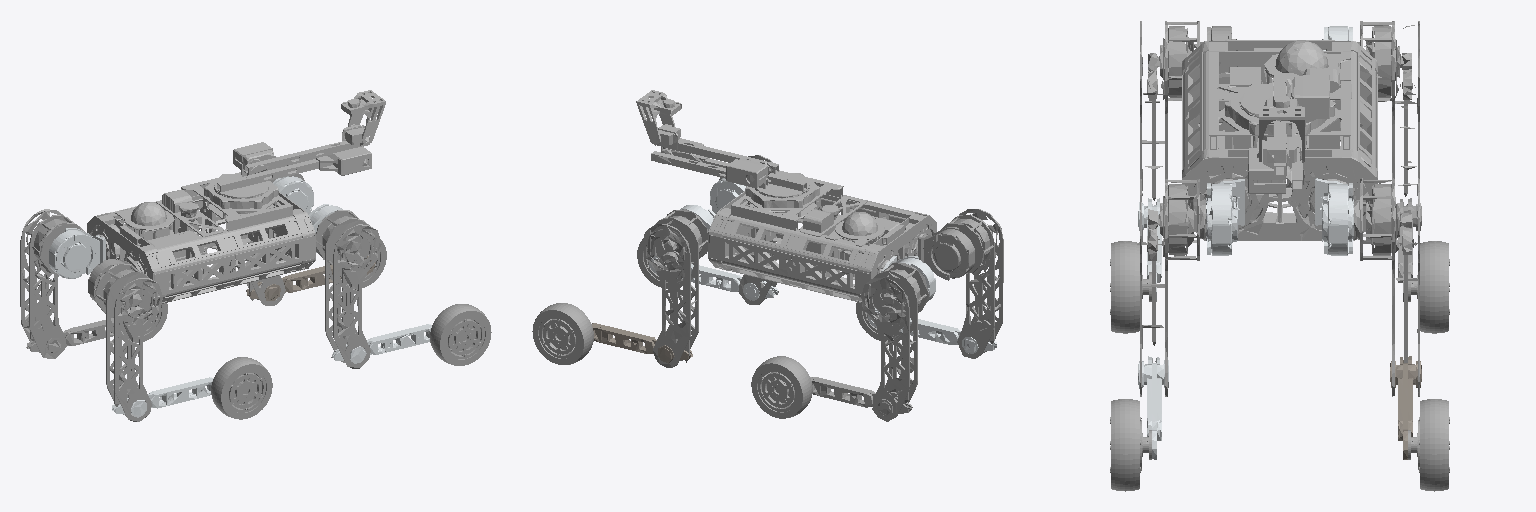
robot.urdf — dog:
<?xml version="1.0" encoding="utf-8"?>
<!-- This URDF was automatically created by SolidWorks to URDF Exporter! Originally created by Stephen Brawner (brawner@gmail.com) 
     Commit Version: 1.6.0-4-g7f85cfe  Build Version: 1.6.7995.38578
     For more information, please see http://wiki.ros.org/sw_urdf_exporter -->
<robot
  name="dog">
  <link
    name="base_link">
    <inertial>
      <origin
        xyz="0.0348197823453159 0.00438719226827042 0.0944538564687364"
        rpy="0 0 -1.5707963267949" />
      <mass
        value="7.237743799242" />
      <inertia
        ixx="0.0130422796441506"
        ixy="6.1466818954061E-06"
        ixz="-5.02997398507184E-07"
        iyy="0.00959717989648639"
        iyz="7.44303450590996E-06"
        izz="0.0141780154474086" />
    </inertial>
    <visual>
      <origin
        xyz="0 0 0"
        rpy="0 0 -1.5707963267949" />
      <geometry>
        <mesh
          filename="package://dog_arm/meshes/base_link.STL" />
      </geometry>
      <material
        name="">
        <color
          rgba="0.752941176470588 0.752941176470588 0.752941176470588 1" />
      </material>
    </visual>
    <collision>
      <origin
        xyz="0 0 0"
        rpy="0 0 -1.5707963267949" />
      <geometry>
        <mesh
          filename="package://dog_arm/meshes/base_link.STL" />
      </geometry>
    </collision>
  </link>
  <link
    name="FL_hip">
    <inertial>
      <origin
        xyz="0.00926961232093054 -0.000389114630895825 0.0462294301476742"
        rpy="0 0 0" />
      <mass
        value="0.742829095909988" />
      <inertia
        ixx="0.000773878879093356"
        ixy="-8.17686305960049E-08"
        ixz="-9.36979153596605E-08"
        iyy="0.000386655335773583"
        iyz="-7.10269912306075E-06"
        izz="0.000448506001796699" />
    </inertial>
    <visual>
      <origin
        xyz="0 0 0"
        rpy="0 0 0" />
      <geometry>
        <mesh
          filename="package://dog_arm/meshes/left_front1.STL" />
      </geometry>
      <material
        name="">
        <color
          rgba="0.898039215686275 0.917647058823529 0.929411764705882 1" />
      </material>
    </visual>
    <collision>
      <origin
        xyz="0 0 0"
        rpy="0 0 0" />
      <geometry>
        <mesh
          filename="package://dog_arm/meshes/left_front1.STL" />
      </geometry>
    </collision>
  </link>
  <joint
    name="FL_hip_joint"
    type="revolute">
    <origin
      xyz="0.198599999999996 0.0699998874435837 0.0620002717327733"
      rpy="1.5707963267949 0 1.5707963267949" />
    <parent
      link="base_link" />
    <child
      link="FL_hip" />
    <axis
      xyz="0 0 1" />
    <limit
      lower="-3.14"
      upper="3.14"
      effort="23"
      velocity="30" />
  </joint>
  <link
    name="FL_thigh">
    <inertial>
      <origin
        xyz="0.0271088488648907 0.00453042316089712 0.0409809017320494"
        rpy="0 0 0" />
      <mass
        value="1.18835532842085" />
      <inertia
        ixx="0.000582380613602489"
        ixy="7.19192245269152E-05"
        ixz="3.62444695223977E-07"
        iyy="0.00200833125008336"
        iyz="3.63860855013318E-07"
        izz="0.0025152689691943" />
    </inertial>
    <visual>
      <origin
        xyz="0 0 0"
        rpy="0 0 0" />
      <geometry>
        <mesh
          filename="package://dog_arm/meshes/left_front2.STL" />
      </geometry>
      <material
        name="">
        <color
          rgba="0.698039215686274 0.698039215686274 0.698039215686274 1" />
      </material>
    </visual>
    <collision>
      <origin
        xyz="0 0 0"
        rpy="0 0 0" />
      <geometry>
        <mesh
          filename="package://dog_arm/meshes/left_front2.STL" />
      </geometry>
    </collision>
  </link>
  <joint
    name="FL_thigh_joint"
    type="revolute">
    <origin
      xyz="0.0358000000000001 0 0.0530001125564164"
      rpy="-1.57079632679489 0 -1.5707963267949" />
    <parent
      link="FL_hip" />
    <child
      link="FL_thigh" />
    <axis
      xyz="0 0 1" />
    <limit
      lower="-3.14"
      upper="3.14"
      effort="23"
      velocity="30" />
  </joint>
  <link
    name="FL_calf">
    <inertial>
      <origin
        xyz="0.0501224638734481 1.25177646026486E-14 -0.0161327781293806"
        rpy="0 0 0" />
      <mass
        value="0.239198906199937" />
      <inertia
        ixx="2.34277225944229E-05"
        ixy="5.0821976835258E-21"
        ixz="8.17602954337377E-09"
        iyy="0.000501272731167538"
        iyz="4.00800769885972E-20"
        izz="0.000522923662478964" />
    </inertial>
    <visual>
      <origin
        xyz="0 0 0"
        rpy="0 0 0" />
      <geometry>
        <mesh
          filename="package://dog_arm/meshes/left_front3.STL" />
      </geometry>
      <material
        name="">
        <color
          rgba="0.647058823529412 0.619607843137255 0.588235294117647 1" />
      </material>
    </visual>
    <collision>
      <origin
        xyz="0 0 0"
        rpy="0 0 0" />
      <geometry>
        <mesh
          filename="package://dog_arm/meshes/left_front3.STL" />
      </geometry>
    </collision>
  </link>
  <joint
    name="FL_calf_joint"
    type="revolute">
    <origin
      xyz="0.229999999999994 0 0.0797499999999994"
      rpy="0 0 -1.5707963267949" />
    <parent
      link="FL_thigh" />
    <child
      link="FL_calf" />
    <axis
      xyz="0 0 1" />
    <limit
      lower="-3.14"
      upper="3.14"
      effort="23"
      velocity="30" />
  </joint>
  <link
    name="FL_foot">
    <inertial>
      <origin
        xyz="1.91606151095369E-06 1.10302561355524E-06 0.0324457169265932"
        rpy="0 0 0" />
      <mass
        value="0.759852059316665" />
      <inertia
        ixx="0.000798795435435594"
        ixy="3.93130204632457E-10"
        ixz="-3.48956735598218E-08"
        iyy="0.000798795890854484"
        iyz="-2.01759884168706E-08"
        izz="0.00145510261223115" />
    </inertial>
    <visual>
      <origin
        xyz="0 0 0"
        rpy="0 0 0" />
      <geometry>
        <mesh
          filename="package://dog_arm/meshes/left_front4.STL" />
      </geometry>
      <material
        name="">
        <color
          rgba="0.698039215686274 0.698039215686274 0.698039215686274 1" />
      </material>
    </visual>
    <collision>
      <origin
        xyz="0 0 0"
        rpy="0 0 0" />
      <geometry>
        <mesh
          filename="package://dog_arm/meshes/left_front4.STL" />
      </geometry>
    </collision>
  </link>
  <joint
    name="FL_foot_joint"
    type="continuous">
    <origin
      xyz="0.225 0 -0.0112499999999999"
      rpy="0 0 0" />
    <parent
      link="FL_calf" />
    <child
      link="FL_foot" />
    <axis
      xyz="0 0 1" />
  </joint>
  <link
    name="FR_hip">
    <inertial>
      <origin
        xyz="0.00926961232092999 -0.000281092632916098 0.0463950814614477"
        rpy="0 0 0" />
      <mass
        value="0.742829095910026" />
      <inertia
        ixx="0.000773878879093408"
        ixy="8.19615561677747E-08"
        ixz="1.04684273268948E-07"
        iyy="0.000386655350800085"
        iyz="-7.10277806804239E-06"
        izz="0.000448505986770251" />
    </inertial>
    <visual>
      <origin
        xyz="0 0 0"
        rpy="0 0 0" />
      <geometry>
        <mesh
          filename="package://dog_arm/meshes/right_front1.STL" />
      </geometry>
      <material
        name="">
        <color
          rgba="0.898039215686275 0.917647058823529 0.929411764705882 1" />
      </material>
    </visual>
    <collision>
      <origin
        xyz="0 0 0"
        rpy="0 0 0" />
      <geometry>
        <mesh
          filename="package://dog_arm/meshes/right_front1.STL" />
      </geometry>
    </collision>
  </link>
  <joint
    name="FR_hip_joint"
    type="revolute">
    <origin
      xyz="0.198599999999997 -0.0700000000000028 0.0619999999999996"
      rpy="-1.5707963267949 0 -1.5707963267949" />
    <parent
      link="base_link" />
    <child
      link="FR_hip" />
    <axis
      xyz="0 0 1" />
    <limit
      lower="-3.14"
      upper="3.14"
      effort="23"
      velocity="30" />
  </joint>
  <link
    name="FR_thigh">
    <inertial>
      <origin
        xyz="0.0251291312618478 -0.00355121391956043 0.0410938511147438"
        rpy="0 0 0" />
      <mass
        value="1.19692185407114" />
      <inertia
        ixx="0.00057946306520111"
        ixy="-6.7683132060606E-05"
        ixz="-4.69136972951624E-08"
        iyy="0.0020130685753681"
        iyz="-9.51156961903831E-08"
        izz="0.00251528451753003" />
    </inertial>
    <visual>
      <origin
        xyz="0 0 0"
        rpy="0 0 0" />
      <geometry>
        <mesh
          filename="package://dog_arm/meshes/right_front2.STL" />
      </geometry>
      <material
        name="">
        <color
          rgba="0.698039215686274 0.698039215686274 0.698039215686274 1" />
      </material>
    </visual>
    <collision>
      <origin
        xyz="0 0 0"
        rpy="0 0 0" />
      <geometry>
        <mesh
          filename="package://dog_arm/meshes/right_front2.STL" />
      </geometry>
    </collision>
  </link>
  <joint
    name="FR_thigh_joint"
    type="revolute">
    <origin
      xyz="0.0357999999999971 0 0.0530000000000029"
      rpy="1.57079632679493 0 1.5707963267949" />
    <parent
      link="FR_hip" />
    <child
      link="FR_thigh" />
    <axis
      xyz="0 0 1" />
    <limit
      lower="-3.14"
      upper="3.14"
      effort="23"
      velocity="30" />
  </joint>
  <link
    name="FR_calf">
    <inertial>
      <origin
        xyz="0.0506122904556514 -3.35692218467187E-09 -0.0159312946682333"
        rpy="0 0 0" />
      <mass
        value="0.236883938830138" />
      <inertia
        ixx="2.33006376836586E-05"
        ixy="-2.88490058076165E-12"
        ixz="8.17602954353933E-09"
        iyy="0.000501145646256774"
        iyz="-4.91430979359881E-17"
        izz="0.000522671035969015" />
    </inertial>
    <visual>
      <origin
        xyz="0 0 0"
        rpy="0 0 0" />
      <geometry>
        <mesh
          filename="package://dog_arm/meshes/right_front3.STL" />
      </geometry>
      <material
        name="">
        <color
          rgba="0.898039215686275 0.917647058823529 0.929411764705882 1" />
      </material>
    </visual>
    <collision>
      <origin
        xyz="0 0 0"
        rpy="0 0 0" />
      <geometry>
        <mesh
          filename="package://dog_arm/meshes/right_front3.STL" />
      </geometry>
    </collision>
  </link>
  <joint
    name="FR_calf_joint"
    type="revolute">
    <origin
      xyz="0.229999998991138 0 0.0797500000000078"
      rpy="0 0 1.5707963267949" />
    <parent
      link="FR_thigh" />
    <child
      link="FR_calf" />
    <axis
      xyz="0 0 1" />
    <limit
      lower="-3.14"
      upper="3.14"
      effort="23"
      velocity="30" />
  </joint>
  <link
    name="FR_foot">
    <inertial>
      <origin
        xyz="1.91403803118106E-06 -1.10980435730212E-06 0.0324457169091027"
        rpy="0 0 0" />
      <mass
        value="0.759852058494053" />
      <inertia
        ixx="0.000798795436536234"
        ixy="-3.93767150261076E-10"
        ixz="-3.49207550292313E-08"
        iyy="0.000798795889749358"
        iyz="2.01325444399622E-08"
        izz="0.00145510261223003" />
    </inertial>
    <visual>
      <origin
        xyz="0 0 0"
        rpy="0 0 0" />
      <geometry>
        <mesh
          filename="package://dog_arm/meshes/right_front4.STL" />
      </geometry>
      <material
        name="">
        <color
          rgba="0.698039215686274 0.698039215686274 0.698039215686274 1" />
      </material>
    </visual>
    <collision>
      <origin
        xyz="0 0 0"
        rpy="0 0 0" />
      <geometry>
        <mesh
          filename="package://dog_arm/meshes/right_front4.STL" />
      </geometry>
    </collision>
  </link>
  <joint
    name="FR_foot_joint"
    type="continuous">
    <origin
      xyz="0.224999999720744 0 -0.0112500000000051"
      rpy="0 0 0" />
    <parent
      link="FR_calf" />
    <child
      link="FR_foot" />
    <axis
      xyz="0 0 1" />
  </joint>
  <link
    name="RL_hip">
    <inertial>
      <origin
        xyz="0.00926961232093375 -0.000281092632917514 0.0463950814614509"
        rpy="0 0 0" />
      <mass
        value="0.742829095909863" />
      <inertia
        ixx="0.000773878879093358"
        ixy="8.19615561635056E-08"
        ixz="1.04684273267929E-07"
        iyy="0.000386655350800075"
        iyz="-7.10277806803722E-06"
        izz="0.00044850598677021" />
    </inertial>
    <visual>
      <origin
        xyz="0 0 0"
        rpy="0 0 0" />
      <geometry>
        <mesh
          filename="package://dog_arm/meshes/left_behind1.STL" />
      </geometry>
      <material
        name="">
        <color
          rgba="0.898039215686275 0.917647058823529 0.929411764705882 1" />
      </material>
    </visual>
    <collision>
      <origin
        xyz="0 0 0"
        rpy="0 0 0" />
      <geometry>
        <mesh
          filename="package://dog_arm/meshes/left_behind1.STL" />
      </geometry>
    </collision>
  </link>
  <joint
    name="RL_hip_joint"
    type="revolute">
    <origin
      xyz="-0.198600000000003 0.0699999999999919 0.0620000000000065"
      rpy="-1.57079632679489 0 1.5707963267949" />
    <parent
      link="base_link" />
    <child
      link="RL_hip" />
    <axis
      xyz="0 0 1" />
    <limit
      lower="-3.14"
      upper="3.14"
      effort="23"
      velocity="30" />
  </joint>
  <link
    name="RL_thigh">
    <inertial>
      <origin
        xyz="0.0261540060075662 0.00447156353884681 0.0409809050022632"
        rpy="0 0 0" />
      <mass
        value="1.18835548530745" />
      <inertia
        ixx="0.000583467852231736"
        ixy="6.70344154819197E-05"
        ixz="1.49692605737498E-07"
        iyy="0.00200724403118418"
        iyz="4.07509145929355E-07"
        izz="0.0025152689866623" />
    </inertial>
    <visual>
      <origin
        xyz="0 0 0"
        rpy="0 0 0" />
      <geometry>
        <mesh
          filename="package://dog_arm/meshes/left_behind2.STL" />
      </geometry>
      <material
        name="">
        <color
          rgba="0.698039215686274 0.698039215686274 0.698039215686274 1" />
      </material>
    </visual>
    <collision>
      <origin
        xyz="0 0 0"
        rpy="0 0 0" />
      <geometry>
        <mesh
          filename="package://dog_arm/meshes/left_behind2.STL" />
      </geometry>
    </collision>
  </link>
  <joint
    name="RL_thigh_joint"
    type="revolute">
    <origin
      xyz="0.0358000000000075 0 0.0530000000000009"
      rpy="1.5707963267949 0 1.5707963267949" />
    <parent
      link="RL_hip" />
    <child
      link="RL_thigh" />
    <axis
      xyz="0 0 1" />
    <limit
      lower="-3.14"
      upper="3.14"
      effort="23"
      velocity="30" />
  </joint>
  <link
    name="RL_calf">
    <inertial>
      <origin
        xyz="0.0501224638732274 9.03166430532565E-13 -0.0161327781293756"
        rpy="0 0 0" />
      <mass
        value="0.239198906199937" />
      <inertia
        ixx="2.34277225944227E-05"
        ixy="9.26046721673023E-15"
        ixz="8.1760295434021E-09"
        iyy="0.000501272731167537"
        iyz="7.19149661314027E-20"
        izz="0.000522923662478963" />
    </inertial>
    <visual>
      <origin
        xyz="0 0 0"
        rpy="0 0 0" />
      <geometry>
        <mesh
          filename="package://dog_arm/meshes/left_behind3.STL" />
      </geometry>
      <material
        name="">
        <color
          rgba="0.698039215686274 0.698039215686274 0.698039215686274 1" />
      </material>
    </visual>
    <collision>
      <origin
        xyz="0 0 0"
        rpy="0 0 0" />
      <geometry>
        <mesh
          filename="package://dog_arm/meshes/left_behind3.STL" />
      </geometry>
    </collision>
  </link>
  <joint
    name="RL_calf_joint"
    type="revolute">
    <origin
      xyz="0.23 0 0.0797499999999924"
      rpy="0 0 -1.5707963267949" />
    <parent
      link="RL_thigh" />
    <child
      link="RL_calf" />
    <axis
      xyz="0 0 1" />
    <limit
      lower="-3.14"
      upper="3.14"
      effort="23"
      velocity="30" />
  </joint>
  <link
    name="RL_foot">
    <inertial>
      <origin
        xyz="1.91606151192514E-06 1.10302973932441E-06 0.032445716926588"
        rpy="0 0 0" />
      <mass
        value="0.759852059316642" />
      <inertia
        ixx="0.00079879543543559"
        ixy="3.93130205310083E-10"
        ixz="-3.48956735598555E-08"
        iyy="0.00079879589085448"
        iyz="-2.01759884176439E-08"
        izz="0.00145510261223115" />
    </inertial>
    <visual>
      <origin
        xyz="0 0 0"
        rpy="0 0 0" />
      <geometry>
        <mesh
          filename="package://dog_arm/meshes/left_behind4.STL" />
      </geometry>
      <material
        name="">
        <color
          rgba="0.698039215686274 0.698039215686274 0.698039215686274 1" />
      </material>
    </visual>
    <collision>
      <origin
        xyz="0 0 0"
        rpy="0 0 0" />
      <geometry>
        <mesh
          filename="package://dog_arm/meshes/left_behind4.STL" />
      </geometry>
    </collision>
  </link>
  <joint
    name="RL_foot_joint"
    type="continuous">
    <origin
      xyz="0.224999999999993 0 -0.0112499999999896"
      rpy="0 0 0" />
    <parent
      link="RL_calf" />
    <child
      link="RL_foot" />
    <axis
      xyz="0 0 1" />
  </joint>
  <link
    name="RR_hip">
    <inertial>
      <origin
        xyz="0.00926961232093113 -0.000389344571298245 0.0462293354679429"
        rpy="0 0 0" />
      <mass
        value="0.742829095909967" />
      <inertia
        ixx="0.000773878879093352"
        ixy="-8.17692648185766E-08"
        ixz="-9.36973919181382E-08"
        iyy="0.000386655350800074"
        iyz="-7.1027780680372E-06"
        izz="0.000448505986770205" />
    </inertial>
    <visual>
      <origin
        xyz="0 0 0"
        rpy="0 0 0" />
      <geometry>
        <mesh
          filename="package://dog_arm/meshes/right_behind1.STL" />
      </geometry>
      <material
        name="">
        <color
          rgba="0.698039215686274 0.698039215686274 0.698039215686274 1" />
      </material>
    </visual>
    <collision>
      <origin
        xyz="0 0 0"
        rpy="0 0 0" />
      <geometry>
        <mesh
          filename="package://dog_arm/meshes/right_behind1.STL" />
      </geometry>
    </collision>
  </link>
  <joint
    name="RR_hip_joint"
    type="revolute">
    <origin
      xyz="-0.1986 -0.0700000000000045 0.0620000000000064"
      rpy="1.57079632679489 0 -1.5707963267949" />
    <parent
      link="base_link" />
    <child
      link="RR_hip" />
    <axis
      xyz="0 0 1" />
    <limit
      lower="-3.14"
      upper="3.14"
      effort="23"
      velocity="30" />
  </joint>
  <link
    name="RR_thigh">
    <inertial>
      <origin
        xyz="0.026056061176031 -0.00433452495068948 0.0410938501176524"
        rpy="0 0 0" />
      <mass
        value="1.19692180647537" />
      <inertia
        ixx="0.000584795477208408"
        ixy="-7.0663695197953E-05"
        ixz="2.04510835477671E-07"
        iyy="0.00200773614975638"
        iyz="-2.12784083625288E-07"
        izz="0.00251528450461799" />
    </inertial>
    <visual>
      <origin
        xyz="0 0 0"
        rpy="0 0 0" />
      <geometry>
        <mesh
          filename="package://dog_arm/meshes/right_behind2.STL" />
      </geometry>
      <material
        name="">
        <color
          rgba="0.698039215686274 0.698039215686274 0.698039215686274 1" />
      </material>
    </visual>
    <collision>
      <origin
        xyz="0 0 0"
        rpy="0 0 0" />
      <geometry>
        <mesh
          filename="package://dog_arm/meshes/right_behind2.STL" />
      </geometry>
    </collision>
  </link>
  <joint
    name="RR_thigh_joint"
    type="revolute">
    <origin
      xyz="0.0358 0 0.0530000000000005"
      rpy="-1.57079632679489 0 -1.5707963267949" />
    <parent
      link="RR_hip" />
    <child
      link="RR_thigh" />
    <axis
      xyz="0 0 1" />
    <limit
      lower="-3.14"
      upper="3.14"
      effort="23"
      velocity="30" />
  </joint>
  <link
    name="RR_calf">
    <inertial>
      <origin
        xyz="0.0501224638735579 -4.87387907810444E-14 -0.016132778129381"
        rpy="0 0 0" />
      <mass
        value="0.239198906199937" />
      <inertia
        ixx="2.3427722594423E-05"
        ixy="-1.47891952590601E-18"
        ixz="8.17602954344307E-09"
        iyy="0.000501272731167537"
        iyz="-3.32536252958683E-20"
        izz="0.000522923662478963" />
    </inertial>
    <visual>
      <origin
        xyz="0 0 0"
        rpy="0 0 0" />
      <geometry>
        <mesh
          filename="package://dog_arm/meshes/right_behind3.STL" />
      </geometry>
      <material
        name="">
        <color
          rgba="0.898039215686275 0.917647058823529 0.929411764705882 1" />
      </material>
    </visual>
    <collision>
      <origin
        xyz="0 0 0"
        rpy="0 0 0" />
      <geometry>
        <mesh
          filename="package://dog_arm/meshes/right_behind3.STL" />
      </geometry>
    </collision>
  </link>
  <joint
    name="RR_calf_joint"
    type="revolute">
    <origin
      xyz="0.23 0 0.0797500000000008"
      rpy="0 0 1.5707963267949" />
    <parent
      link="RR_thigh" />
    <child
      link="RR_calf" />
    <axis
      xyz="0 0 1" />
    <limit
      lower="-3.14"
      upper="3.14"
      effort="23"
      velocity="30" />
  </joint>
  <link
    name="RR_foot">
    <inertial>
      <origin
        xyz="1.9132787794085E-06 -1.10784517254325E-06 0.0324457169265936"
        rpy="0 0 0" />
      <mass
        value="0.759852059316637" />
      <inertia
        ixx="0.000798795436539014"
        ixy="-3.93767266270708E-10"
        ixz="-3.49207552958716E-08"
        iyy="0.000798795889751058"
        iyz="2.01325455770011E-08"
        izz="0.00145510261223115" />
    </inertial>
    <visual>
      <origin
        xyz="0 0 0"
        rpy="0 0 0" />
      <geometry>
        <mesh
          filename="package://dog_arm/meshes/right_behind4.STL" />
      </geometry>
      <material
        name="">
        <color
          rgba="0.698039215686274 0.698039215686274 0.698039215686274 1" />
      </material>
    </visual>
    <collision>
      <origin
        xyz="0 0 0"
        rpy="0 0 0" />
      <geometry>
        <mesh
          filename="package://dog_arm/meshes/right_behind4.STL" />
      </geometry>
    </collision>
  </link>
  <joint
    name="RR_foot_joint"
    type="continuous">
    <origin
      xyz="0.225000000000178 0 -0.0112500000000007"
      rpy="0 0 0" />
    <parent
      link="RR_calf" />
    <child
      link="RR_foot" />
    <axis
      xyz="0 0 1" />
  </joint>
</robot>

--- Facts derived from the render (not from the file) ---
3 views of the same robot in one strip: view 1: azimuth 30°, elevation 25°; view 2: azimuth 150°, elevation 25°; view 3: azimuth 270°, elevation 25° (orthographic).
Model dog with 17 links and 16 joints (12 revolute, 4 continuous), rooted at base_link, posed all joints at 0.
Links seen in each view (by area): view 1: base_link, FR_thigh, RR_thigh, RL_thigh, RR_foot, FR_foot, RL_hip, RR_calf, FR_calf, FL_calf, RL_calf, FL_hip (+2 smaller); view 2: base_link, RL_thigh, FL_thigh, RR_thigh, RL_foot, FL_foot, RR_hip, RL_calf, FL_calf, FR_calf, RR_calf, FR_hip (+2 smaller); view 3: base_link, FL_thigh, FR_thigh, RR_thigh, RL_thigh, FR_foot, FL_foot, RL_foot, RR_foot, FL_hip, FR_hip, FL_calf (+3 smaller).
Link boxes in pixels (left/top/right/bottom): base_link: left=87, top=90, right=385, bottom=305; FR_thigh: left=316, top=210, right=381, bottom=368; RR_thigh: left=95, top=264, right=162, bottom=421; RL_thigh: left=20, top=209, right=84, bottom=358; RR_foot: left=211, top=357, right=272, bottom=419; FR_foot: left=430, top=304, right=491, bottom=365; RL_hip: left=49, top=228, right=105, bottom=278; RR_calf: left=112, top=377, right=213, bottom=417; FR_calf: left=331, top=324, right=431, bottom=363; FL_calf: left=246, top=256, right=375, bottom=300; RL_calf: left=26, top=310, right=156, bottom=354; FL_hip: left=273, top=176, right=313, bottom=214; base_link: left=636, top=90, right=936, bottom=304; RL_thigh: left=861, top=262, right=929, bottom=421; FL_thigh: left=642, top=209, right=708, bottom=367; RR_thigh: left=941, top=209, right=1003, bottom=358; RL_foot: left=751, top=356, right=812, bottom=418; FL_foot: left=532, top=303, right=593, bottom=364; RR_hip: left=918, top=227, right=974, bottom=280; RL_calf: left=810, top=377, right=912, bottom=416; FL_calf: left=592, top=323, right=692, bottom=363; FR_calf: left=649, top=256, right=778, bottom=300; RR_calf: left=868, top=308, right=996, bottom=353; FR_hip: left=710, top=178, right=745, bottom=213; base_link: left=1182, top=40, right=1377, bottom=240; FL_thigh: left=1354, top=178, right=1420, bottom=396; FR_thigh: left=1137, top=179, right=1205, bottom=396; RR_thigh: left=1140, top=21, right=1202, bottom=200; RL_thigh: left=1357, top=21, right=1419, bottom=196; FR_foot: left=1110, top=399, right=1151, bottom=491; FL_foot: left=1408, top=399, right=1449, bottom=491; RL_foot: left=1408, top=241, right=1449, bottom=333; RR_foot: left=1110, top=241, right=1151, bottom=333; FL_hip: left=1315, top=178, right=1353, bottom=255; FR_hip: left=1206, top=179, right=1244, bottom=255; FL_calf: left=1390, top=356, right=1421, bottom=459.
Size in the robot's own frame: 0.8474 by 0.4576 by 0.5188 metres.
Meshes: 17 distinct files referenced, 17 mesh visuals loaded (17 binary STL).
